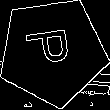P_E: (25, 30, 80, 74)
